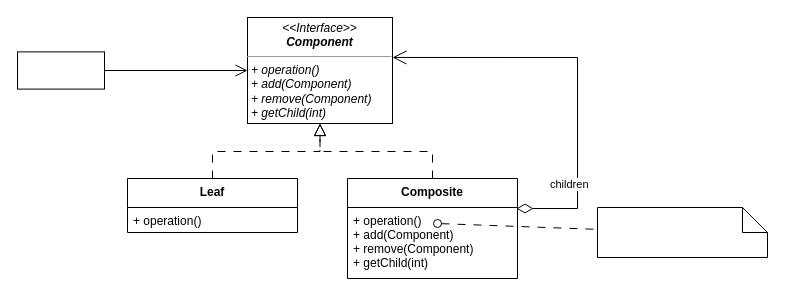
The diagram is 785 pixels wide and 299 high, and some of its shapes have lost their labels. Here are the shapes that lost their labels. From the top down, the centre of each, then its label:
At point 60,70: "Client".
At point 682,232: "forall in chiildren { child.operation(); }".
